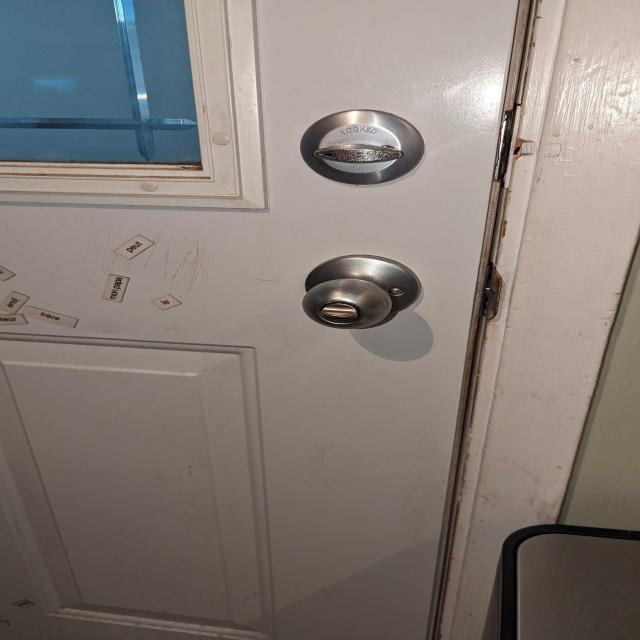door-knob: (302, 255, 420, 330)
